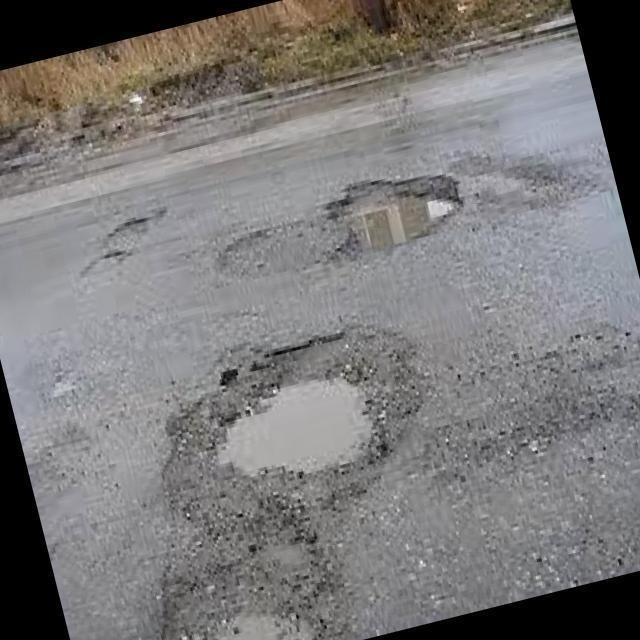pothole: (163, 322, 435, 638), (210, 369, 378, 479), (330, 164, 467, 260), (85, 206, 168, 279)
